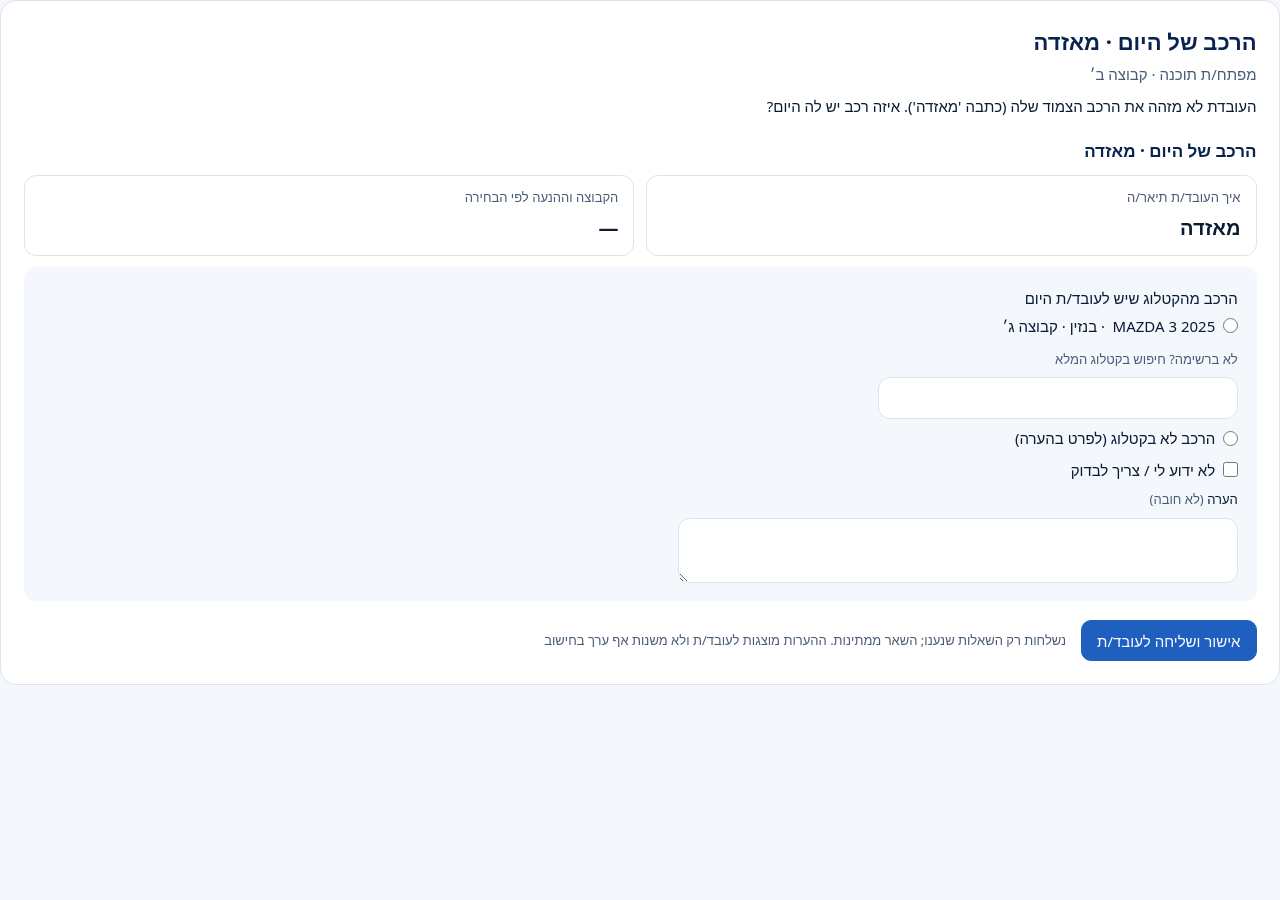
it: TicketDetail: today's car › the closest catalog cars, what the employee wrote, and the choice's drive and group
The width and height of the screenshot is (1280, 900).
Expected: the 1st heading "הרכב של היום · מאזדה" is shown, x1=1034 y1=26 x2=1256 y2=56
Expected: the text "מאזדה" is shown, x1=1180 y1=214 x2=1240 y2=241
Click the radio button labelled "MAZDA 3 2025 · בנזין · קבוצה ג׳" at x=1230, y=326, box x1=1223 y1=318 x2=1238 y2=333
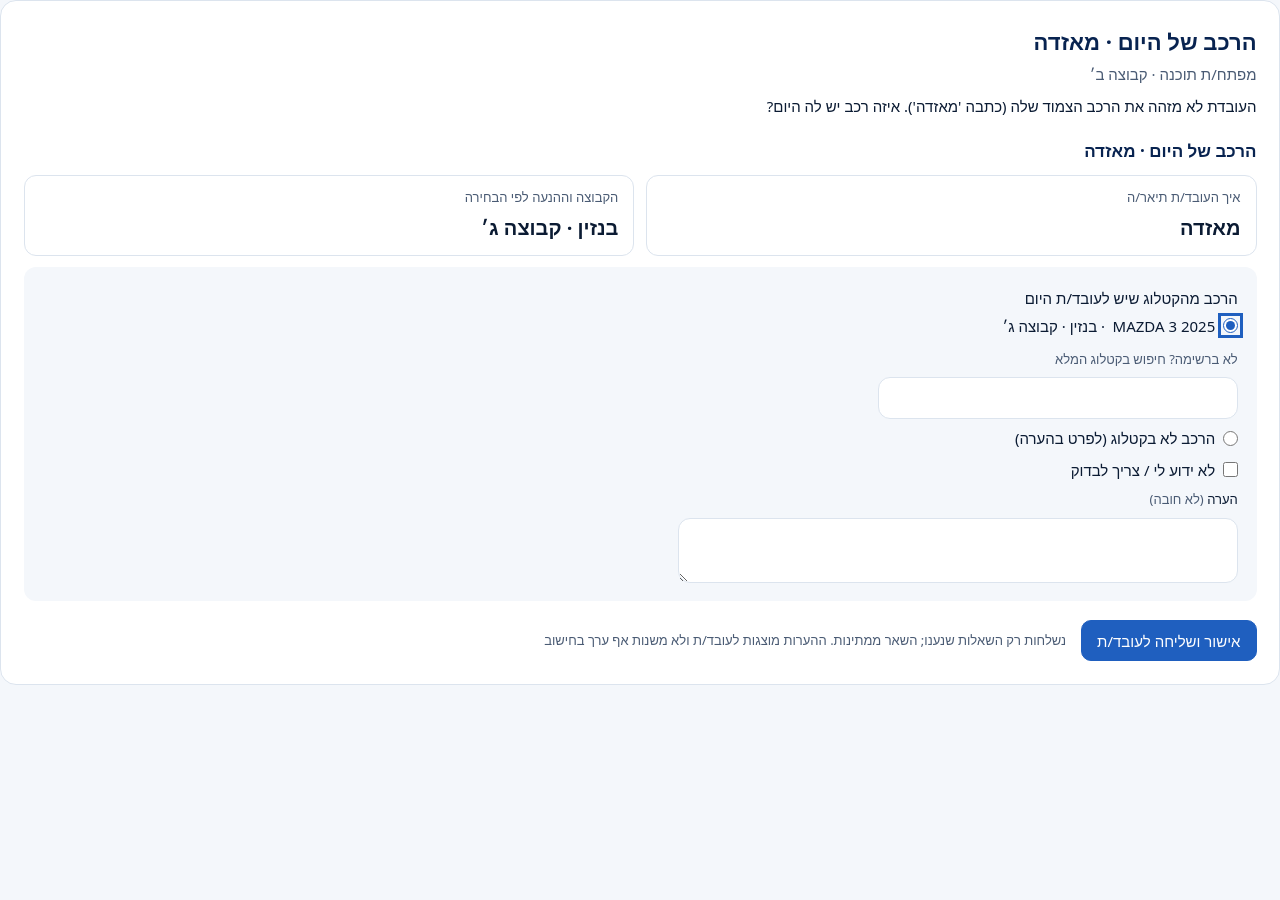
Expected: the text "הקבוצה וההנעה לפי הבחירה" is shown, x1=465 y1=188 x2=618 y2=206
Expected: the text "בנזין · קבוצה ג׳" is shown, x1=481 y1=214 x2=618 y2=241
